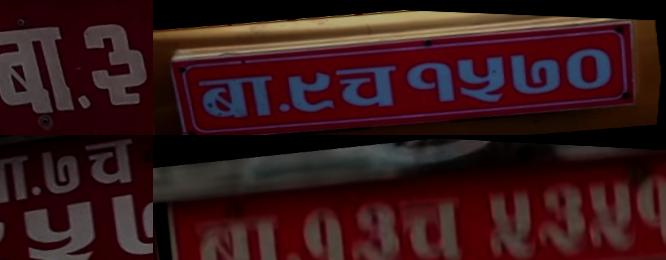0: (558, 38, 622, 92)
1: (285, 197, 359, 260), (621, 150, 666, 249), (398, 53, 466, 107)
3: (76, 7, 153, 125), (528, 166, 601, 260), (340, 189, 413, 260)
5: (472, 172, 546, 260), (19, 194, 111, 260), (579, 158, 638, 249), (450, 47, 514, 106)
7: (104, 176, 153, 260), (504, 42, 570, 97), (35, 139, 88, 198)
9: (280, 63, 344, 117)
ba: (0, 7, 90, 128), (183, 201, 295, 260), (191, 67, 286, 127), (0, 147, 41, 212)
cha: (393, 181, 476, 260), (330, 56, 408, 115), (81, 135, 152, 190)
